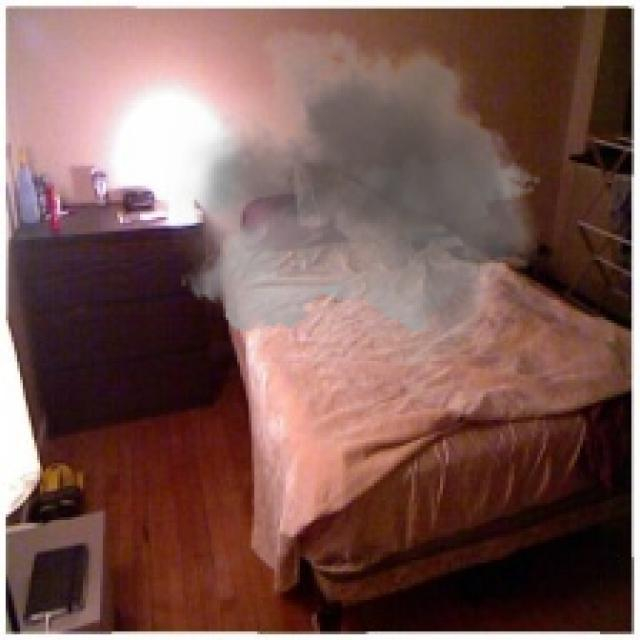Smoke: (166, 8, 554, 414)
